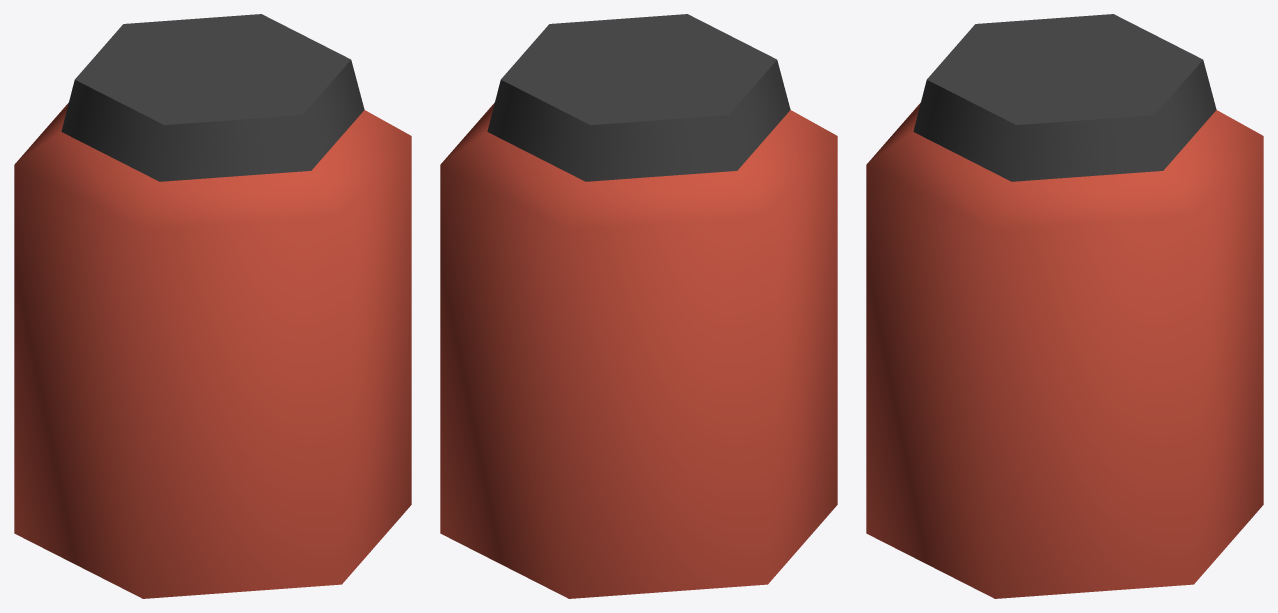
Rendered from SM_Bottle_01.fbx.
3 renders of one model, left to right at view 1: azimuth 30°, elevation 25°; view 2: azimuth 150°, elevation 25°; view 3: azimuth 270°, elevation 25°, orthographic.
Parts seen in each view (by area): view 1: SM_Bottle_01; view 2: SM_Bottle_01; view 3: SM_Bottle_01.
Boxes of the visible parts, bbox=[...] form: SM_Bottle_01: bbox=[14, 14, 411, 598]; SM_Bottle_01: bbox=[440, 14, 837, 598]; SM_Bottle_01: bbox=[866, 14, 1263, 598].
Bounding box in the file's own units: 14.69 × 19.25 × 15.44.
Materials: 1 (1 with a texture image).
